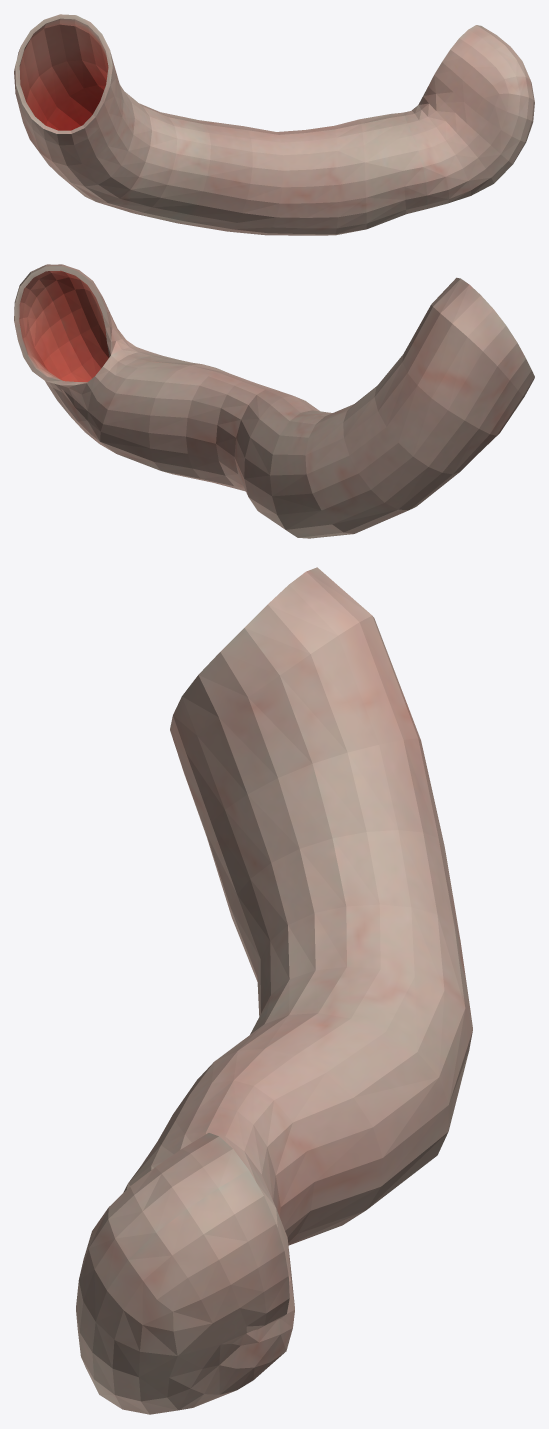
Rendered from colon_transverse_LP.glb.
The picture shows the model from 3 angles, top to bottom: view 1: azimuth 30°, elevation 25°; view 2: azimuth 150°, elevation 25°; view 3: azimuth 270°, elevation 25°; orthographic projection. The views are drawn at different scales.
Parts seen in each view (by area): view 1: colon_transverse_LP; view 2: colon_transverse_LP; view 3: colon_transverse_LP.
Part boxes in pixels (bbox=[...]): colon_transverse_LP: bbox=[14, 14, 534, 235]; colon_transverse_LP: bbox=[14, 264, 534, 538]; colon_transverse_LP: bbox=[76, 567, 472, 1414].
Size of the model in its own units: 0.00279 by 0.00143 by 0.001.
1 material, 1 textured.
